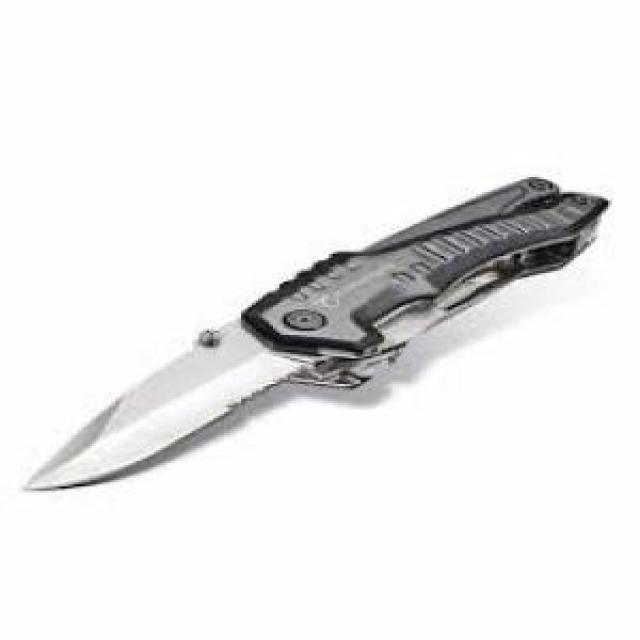knife: (23, 171, 623, 502)
